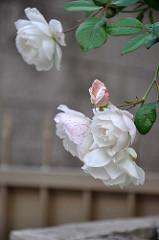Rose: (55, 93, 144, 189), (7, 7, 70, 80)
